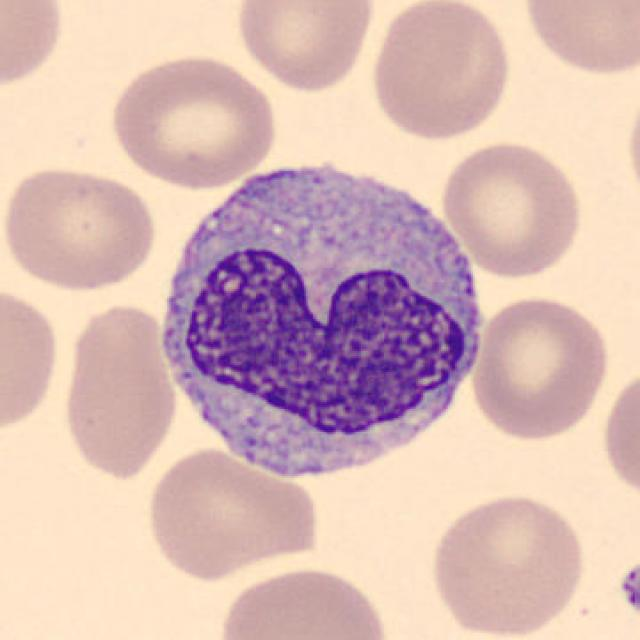Monocyte: (144, 141, 494, 492)
Platelets: (615, 557, 640, 621)
RBC: (140, 442, 324, 584), (107, 49, 281, 192), (425, 488, 588, 640), (57, 298, 181, 483), (468, 291, 612, 444), (437, 136, 587, 280), (366, 0, 516, 143), (0, 162, 160, 293), (212, 562, 396, 640), (231, 0, 378, 93), (0, 280, 64, 438), (517, 0, 638, 79), (0, 0, 68, 95), (597, 363, 640, 504), (622, 78, 640, 215)
